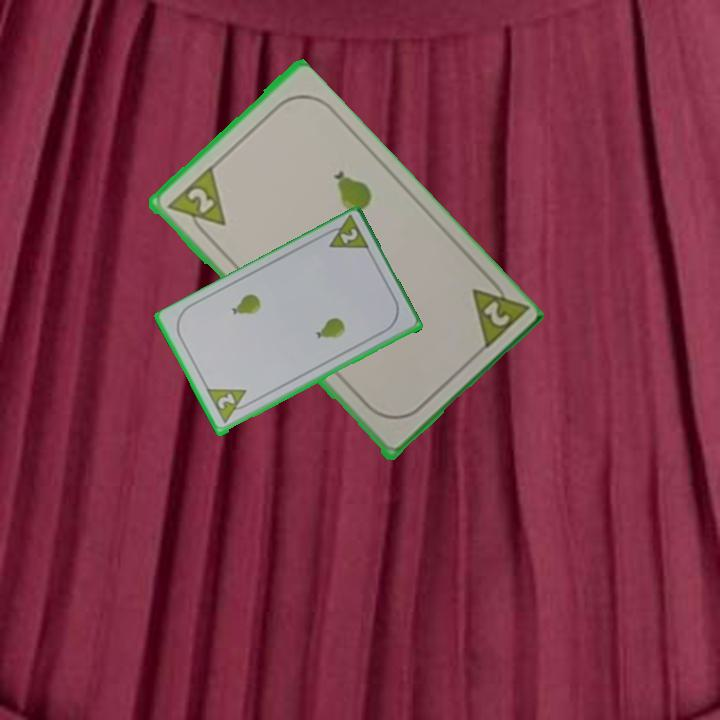2p: (162, 164, 229, 243), (467, 270, 529, 355), (319, 213, 373, 255), (203, 385, 255, 428)
